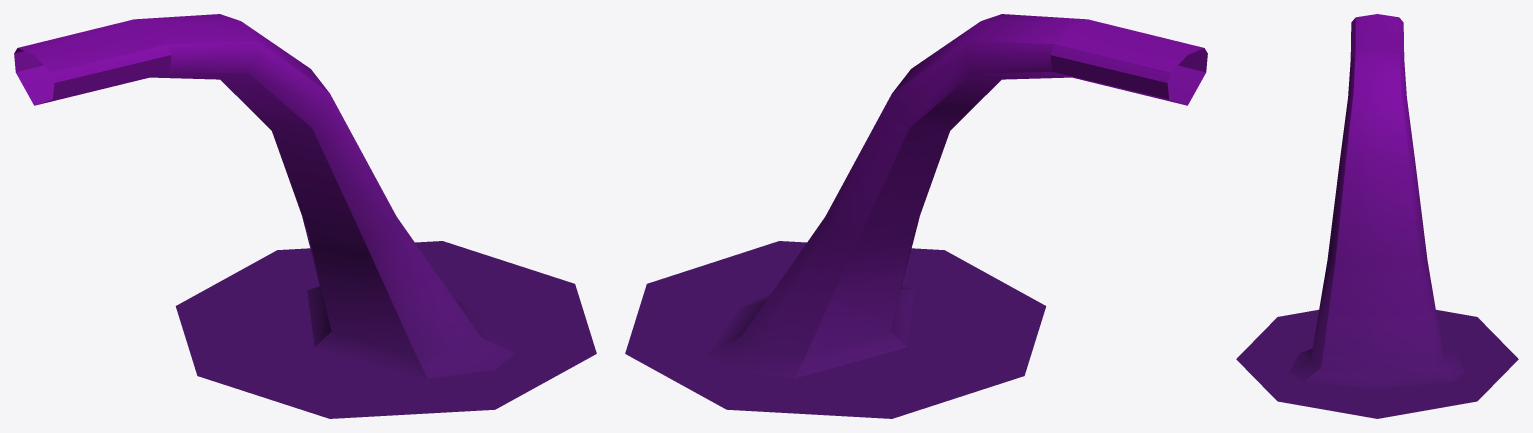
File: VFX Waterfall.fbx
The picture shows the model from 3 angles, left to right: view 1: azimuth 30°, elevation 25°; view 2: azimuth 150°, elevation 25°; view 3: azimuth 270°, elevation 25°; orthographic projection. The views are drawn at different scales.
Parts seen in each view (by area): view 1: Waterfall, Cylinder001; view 2: Waterfall, Cylinder001; view 3: Waterfall, Cylinder001.
Part boxes in pixels (x1=…): Waterfall: x1=14, y1=14, x2=514, y2=378; Cylinder001: x1=175, y1=241, x2=596, y2=418; Waterfall: x1=707, y1=14, x2=1207, y2=378; Cylinder001: x1=625, y1=241, x2=1046, y2=418; Waterfall: x1=1289, y1=14, x2=1465, y2=388; Cylinder001: x1=1236, y1=309, x2=1518, y2=418.
Size of the model in its own units: 90.81 by 57.87 by 63.42.
Materials: 1 (1 with a texture image).
